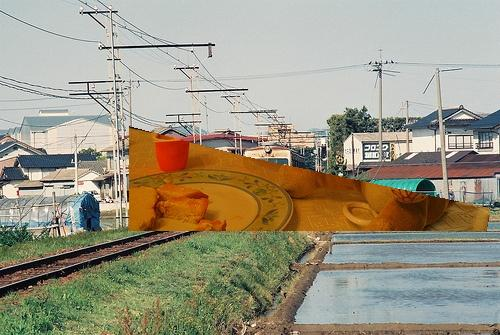tampered: (130, 127, 490, 231)
